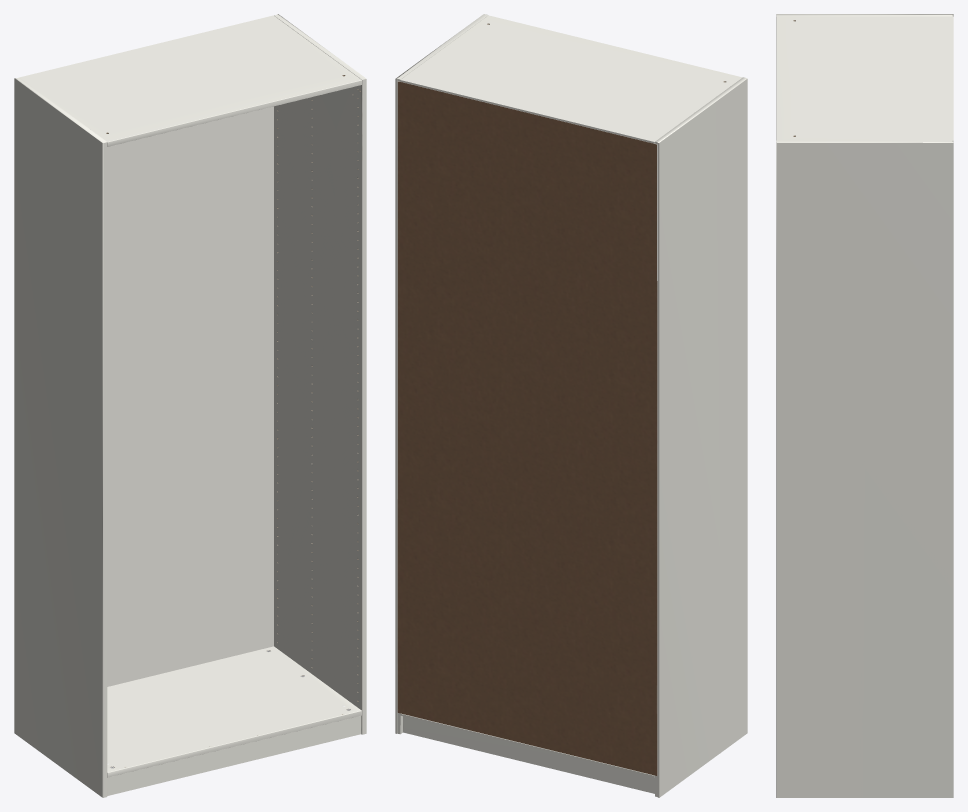
File: 01 - PAX Wardrobe frame - white 100x58x236 cm.glb
3 renders of one model, left to right at view 1: azimuth 30°, elevation 25°; view 2: azimuth 150°, elevation 25°; view 3: azimuth 270°, elevation 25°, orthographic.
Visible parts, largest first — view 1: 50214560-PAX001; view 2: 50214560-PAX001; view 3: 50214560-PAX001.
Part boxes in pixels (x1=…): 50214560-PAX001: x1=14, y1=14, x2=366, y2=797; 50214560-PAX001: x1=395, y1=14, x2=747, y2=797; 50214560-PAX001: x1=776, y1=14, x2=953, y2=797.
Bounding box in the file's own units: 0.9975 × 2.36 × 0.58.
1 material, 1 textured.
